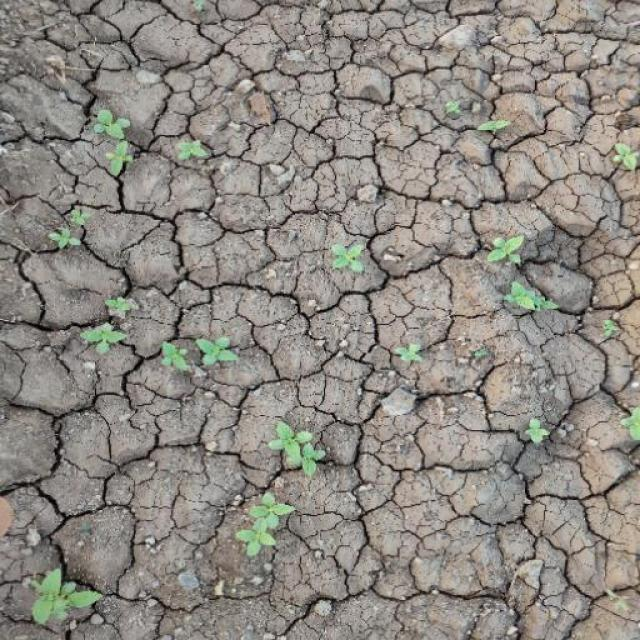crop: (212, 490, 314, 565), (17, 558, 108, 634), (150, 331, 242, 391), (71, 290, 144, 360), (262, 418, 338, 482), (85, 102, 143, 176), (478, 220, 534, 272), (42, 201, 92, 255), (316, 235, 372, 277), (502, 279, 552, 319), (385, 331, 427, 370), (519, 415, 559, 455), (166, 130, 210, 165)
